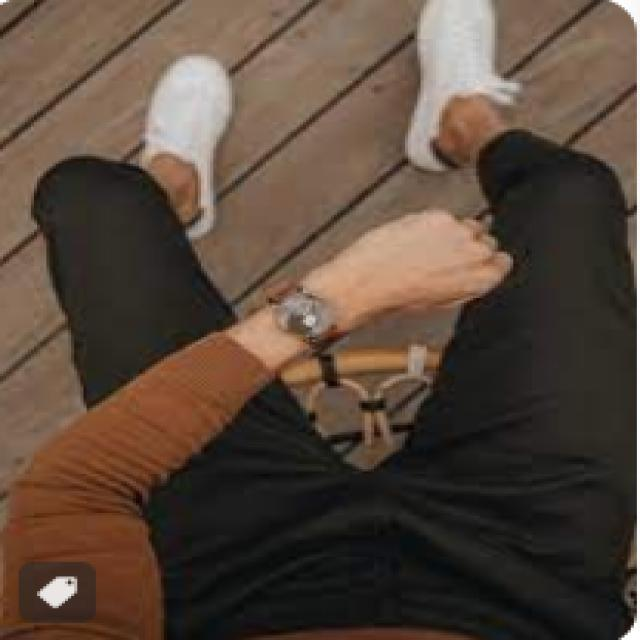Watch: (260, 282, 343, 358)
